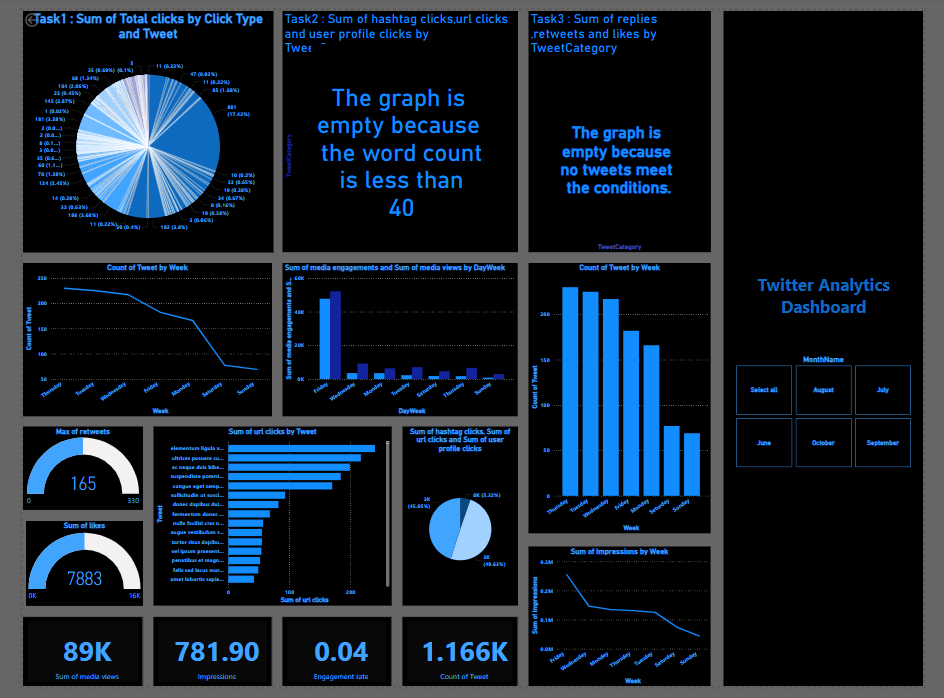

What the dashboard file says about the page in this screenshot:
{"tool":"powerbi","page":{"name":"Page 1","canvas":[2000,1500],"ordinal":0},"visuals":[{"type":"textbox","box":[1555.1,0,445.3,1501.2],"z":0},{"type":"cardVisual","fields":{"Data":["Sum(SocialMedia.media views)"]},"box":[0,1346,266.5,155.2],"z":1000},{"type":"cardVisual","fields":{"Data":["Avg(SocialMedia.impressions)"]},"box":[290.1,1346,263.1,155.2],"z":2000},{"type":"cardVisual","fields":{"Data":["Avg(SocialMedia.engagement rate)"]},"box":[576.9,1346,242.9,155.2],"z":3000},{"type":"cardVisual","fields":{"Data":["CountNonNull(SocialMedia.Tweet)"]},"box":[843.3,1346,256.4,155.2],"z":4000},{"type":"gauge","fields":{"Y":["Sum(SocialMedia.likes)"]},"box":[6.7,1133.5,259.8,188.9],"z":5000},{"type":"gauge","fields":{"Y":["Max(SocialMedia.retweets)"]},"box":[0,924.3,266.5,185.5],"z":6000},{"type":"advancedSlicerVisual","fields":{"Values":["SocialMedia.MonthName"]},"box":[1578.7,762.4,398.1,256.4],"z":7000},{"type":"lineChart","title":"Count of Tweet by Week","fields":{"Category":["SocialMedia.DayWeek"],"Y":["CountNonNull(SocialMedia.Tweet)"]},"box":[0,560,553.2,340.7],"z":8000},{"type":"lineChart","title":"Sum of Impressions by Week","fields":{"Category":["SocialMedia.DayWeek"],"Y":["Sum(SocialMedia.impressions)"]},"box":[1123.3,1190.8,404.8,310.4],"z":9000},{"type":"clusteredBarChart","fields":{"Category":["SocialMedia.Tweet"],"Y":["Sum(SocialMedia.url clicks)"]},"box":[290.1,924.3,529.6,398.1],"z":10000},{"type":"pieChart","fields":{"Y":["Sum(SocialMedia.hashtag clicks)","Sum(SocialMedia.url clicks)","Sum(SocialMedia.user profile clicks)"]},"box":[843.3,924.3,256.4,398.1],"z":11000},{"type":"clusteredColumnChart","fields":{"Y":["Sum(SocialMedia.media engagements)","Sum(SocialMedia.media views)"],"Category":["SocialMedia.DayWeek"]},"box":[576.9,560,522.9,340.7],"z":12000},{"type":"clusteredColumnChart","fields":{"Category":["SocialMedia.DayWeek"],"Y":["CountNonNull(SocialMedia.Tweet)"]},"box":[1123.3,560,404.8,600.5],"z":13000},{"type":"pieChart","title":"Task1 : Sum of Total clicks by Click Type and Tweet","fields":{"Y":["Sum(SocialMedia.Total clicks)"],"Series":["SocialMedia.Tweet"],"Category":["SocialMedia.Click Type"]},"box":[0,0,556.6,536.4],"z":14000},{"type":"actionButton","box":[0,0,100,40],"z":15000},{"type":"clusteredBarChart","title":"Task2 : Sum of hashtag clicks,url clicks and user profile clicks by TweetCategory","fields":{"Y":["Sum(SocialMedia.hashtag clicks)","Sum(SocialMedia.url clicks)","Sum(SocialMedia.user profile clicks)"],"Category":["SocialMedia.TweetCategory"]},"box":[577,0,523,536],"z":16000},{"type":"card","fields":{"Values":["SocialMedia.ShowEmptyGraphMessage"]},"box":[639.8,115.2,403.3,418.5],"z":17000},{"type":"clusteredColumnChart","title":"Task3 : Sum of replies ,retweets and likes by TweetCategory","fields":{"Category":["SocialMedia.TweetCategory"],"Y":["Sum(SocialMedia.replies)","Sum(SocialMedia.retweets)","Sum(SocialMedia.likes)"]},"box":[1123,0,405,536],"z":18000},{"type":"card","fields":{"Values":["SocialMedia.EmptyGraphMessage"]},"box":[1173.9,175.4,300.2,300.2],"z":19000}]}

Visuals, with their boxes in screenshot pixels (x1, y1, x2, y2), scaled from the page's 2000x1500 canvas onto the 944x698 screenshot:
textbox: [734,0,943,697]
cardVisual - Sum(SocialMedia.media views): [0,626,126,697]
cardVisual - Avg(SocialMedia.impressions): [137,626,261,697]
cardVisual - Avg(SocialMedia.engagement rate): [272,626,387,697]
cardVisual - CountNonNull(SocialMedia.Tweet): [398,626,519,697]
gauge - Sum(SocialMedia.likes): [3,527,126,615]
gauge - Max(SocialMedia.retweets): [0,430,126,516]
advancedSlicerVisual - SocialMedia.MonthName: [745,355,933,474]
"Count of Tweet by Week" lineChart: [0,261,261,419]
"Sum of Impressions by Week" lineChart: [530,554,721,697]
clusteredBarChart - SocialMedia.Tweet x Sum(SocialMedia.url clicks): [137,430,387,615]
pieChart - Sum(SocialMedia.hashtag clicks) x Sum(SocialMedia.url clicks): [398,430,519,615]
clusteredColumnChart - Sum(SocialMedia.media engagements) x Sum(SocialMedia.media views): [272,261,519,419]
clusteredColumnChart - SocialMedia.DayWeek x CountNonNull(SocialMedia.Tweet): [530,261,721,540]
"Task1 : Sum of Total clicks by Click Type and Tweet" pieChart: [0,0,263,250]
actionButton: [0,0,47,19]
"Task2 : Sum of hashtag clicks,url clicks and user profile clicks by TweetCategory" clusteredBarChart: [272,0,519,249]
card - SocialMedia.ShowEmptyGraphMessage: [302,54,492,248]
"Task3 : Sum of replies ,retweets and likes by TweetCategory" clusteredColumnChart: [530,0,721,249]
card - SocialMedia.EmptyGraphMessage: [554,82,696,221]
